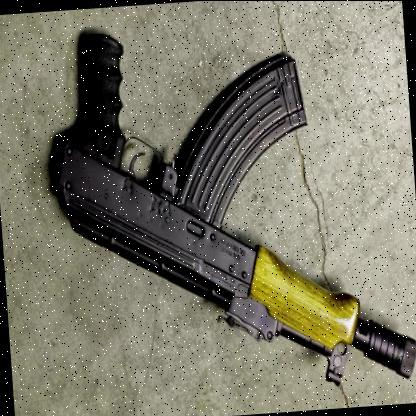rifle: (24, 7, 416, 416)
